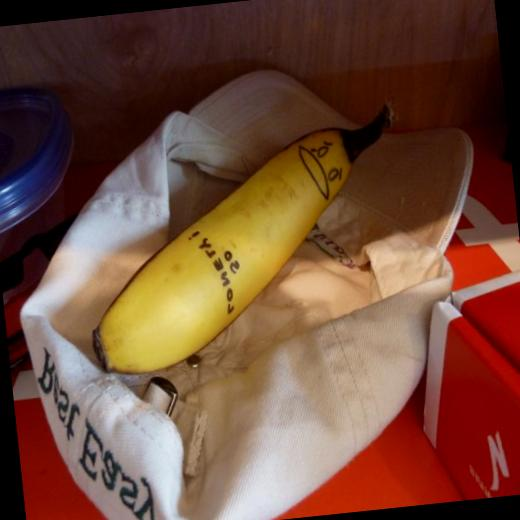Banana: (69, 92, 423, 380)
